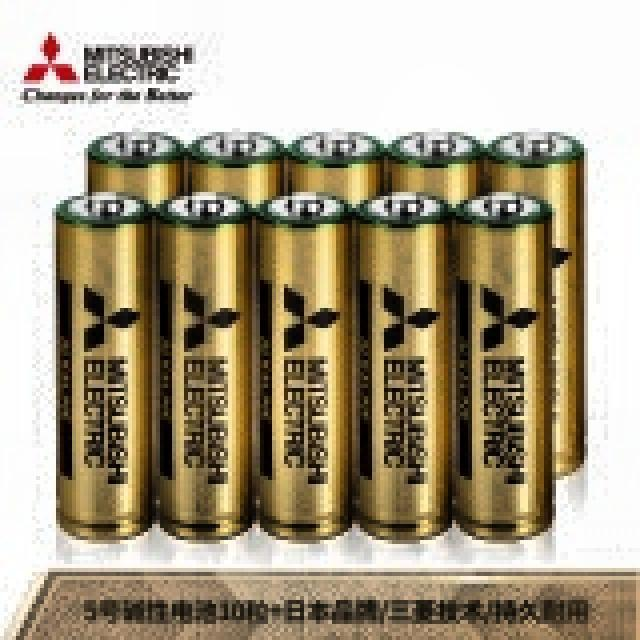battery: (488, 132, 584, 474), (456, 192, 551, 537), (56, 194, 151, 537), (258, 192, 351, 537), (358, 192, 450, 538), (159, 192, 250, 531), (289, 132, 384, 206), (89, 132, 184, 206), (388, 132, 481, 206), (189, 132, 282, 206)
